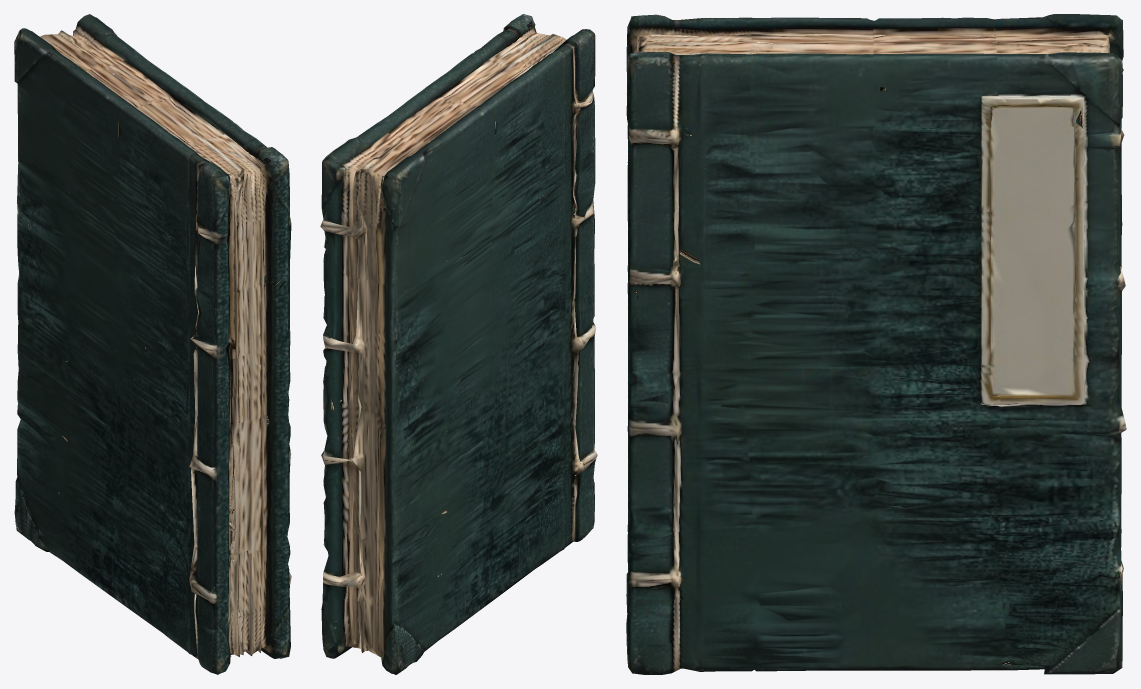
The model's file is book-desktop.glb.
The picture shows the model from 3 angles, left to right: view 1: azimuth 30°, elevation 25°; view 2: azimuth 150°, elevation 25°; view 3: azimuth 270°, elevation 25°; orthographic projection. The views are drawn at different scales.
Visible parts, largest first — view 1: tripo_node_e8da7992-24ff-47b9-b0d1-42c723dec63f; view 2: tripo_node_e8da7992-24ff-47b9-b0d1-42c723dec63f; view 3: tripo_node_e8da7992-24ff-47b9-b0d1-42c723dec63f.
Boxes of the visible parts, x1,y1,x2,y2 form: tripo_node_e8da7992-24ff-47b9-b0d1-42c723dec63f: [14, 14, 291, 674]; tripo_node_e8da7992-24ff-47b9-b0d1-42c723dec63f: [320, 14, 597, 674]; tripo_node_e8da7992-24ff-47b9-b0d1-42c723dec63f: [626, 14, 1126, 674].
Size of the model in its own units: 0.1862 by 0.9988 by 0.7309.
1 material, 1 textured.
